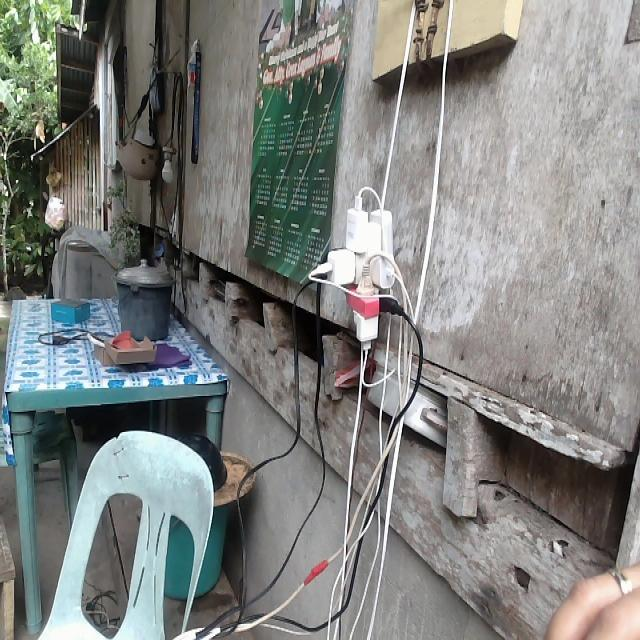-: (314, 181, 406, 363)
